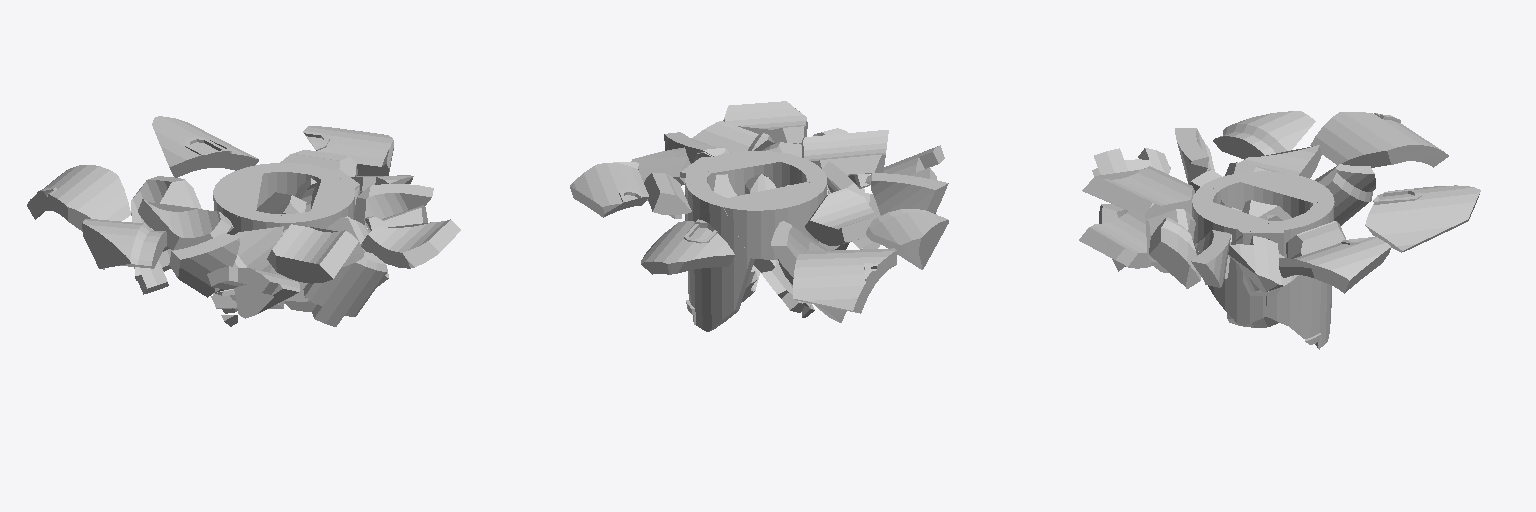
Rendered from destruction_tower_000072.obj.
3 views of the same model, side by side, from view 1: azimuth 30°, elevation 25°; view 2: azimuth 150°, elevation 25°; view 3: azimuth 270°, elevation 25° (orthographic).
Parts seen in each view (by area): view 1: tower.001_cell.003_Mesh.003, tower.001_cell.024_Mesh.024, tower.001_cell.025_Mesh.025, tower.001_cell.011_Mesh.011, tower.001_cell.005_Mesh.005, tower.001_cell.021_Mesh.021, tower.001_cell.009_Mesh.009, tower.001_cell.006_Mesh.006, tower.001_cell.012_Mesh.012, tower.001_cell.007_Mesh.007, tower.001_cell.002_Mesh.002, tower.001_cell.010_Mesh.010 (+10 smaller); view 2: tower.001_cell.017_Mesh.017, tower.001_cell.003_Mesh.003, tower.001_cell.015_Mesh.015, tower.001_cell.025_Mesh.025, tower.001_cell.005_Mesh.005, tower.001_cell.012_Mesh.012, tower.001_cell.024_Mesh.024, tower.001_cell.028_Mesh.028, tower.001_cell.009_Mesh.009, tower.001_cell.021_Mesh.021, tower.001_cell.002_Mesh.002, tower.001_cell.007_Mesh.007 (+8 smaller); view 3: tower.001_cell.025_Mesh.025, tower.001_cell.003_Mesh.003, tower.001_cell.024_Mesh.024, tower.001_cell.017_Mesh.017, tower.001_cell.012_Mesh.012, tower.001_cell.005_Mesh.005, tower.001_cell.015_Mesh.015, tower.001_cell.021_Mesh.021, tower.001_cell.020_Mesh.020, tower.001_cell.028_Mesh.028, tower.001_cell_Mesh, tower.001_cell.007_Mesh.007 (+10 smaller).
Part boxes in pixels (bbox=[...]): tower.001_cell.003_Mesh.003: bbox=[27, 165, 130, 231]; tower.001_cell.024_Mesh.024: bbox=[267, 224, 358, 283]; tower.001_cell.025_Mesh.025: bbox=[152, 116, 258, 177]; tower.001_cell.011_Mesh.011: bbox=[303, 251, 386, 326]; tower.001_cell.005_Mesh.005: bbox=[82, 219, 166, 269]; tower.001_cell.021_Mesh.021: bbox=[361, 219, 460, 268]; tower.001_cell.009_Mesh.009: bbox=[138, 199, 233, 250]; tower.001_cell.006_Mesh.006: bbox=[207, 266, 299, 318]; tower.001_cell.012_Mesh.012: bbox=[303, 126, 393, 175]; tower.001_cell.007_Mesh.007: bbox=[131, 176, 201, 294]; tower.001_cell.002_Mesh.002: bbox=[169, 233, 239, 297]; tower.001_cell.010_Mesh.010: bbox=[354, 184, 433, 227]; tower.001_cell.017_Mesh.017: bbox=[685, 176, 754, 331]; tower.001_cell.003_Mesh.003: bbox=[793, 248, 896, 313]; tower.001_cell.015_Mesh.015: bbox=[724, 182, 825, 259]; tower.001_cell.025_Mesh.025: bbox=[641, 219, 734, 274]; tower.001_cell.005_Mesh.005: bbox=[866, 209, 948, 269]; tower.001_cell.012_Mesh.012: bbox=[570, 162, 648, 217]; tower.001_cell.024_Mesh.024: bbox=[802, 130, 888, 175]; tower.001_cell.028_Mesh.028: bbox=[701, 151, 815, 195]; tower.001_cell.009_Mesh.009: bbox=[805, 188, 876, 245]; tower.001_cell.021_Mesh.021: bbox=[723, 101, 807, 144]; tower.001_cell.002_Mesh.002: bbox=[871, 173, 948, 215]; tower.001_cell.007_Mesh.007: bbox=[771, 221, 846, 322]; tower.001_cell.025_Mesh.025: bbox=[1365, 185, 1480, 252]; tower.001_cell.003_Mesh.003: bbox=[1310, 112, 1448, 167]; tower.001_cell.024_Mesh.024: bbox=[1082, 166, 1194, 218]; tower.001_cell.017_Mesh.017: bbox=[1289, 200, 1334, 349]; tower.001_cell.012_Mesh.012: bbox=[1279, 236, 1390, 293]; tower.001_cell.005_Mesh.005: bbox=[1213, 111, 1315, 159]; tower.001_cell.015_Mesh.015: bbox=[1241, 171, 1333, 217]; tower.001_cell.021_Mesh.021: bbox=[1079, 208, 1151, 268]; tower.001_cell.020_Mesh.020: bbox=[1208, 228, 1269, 325]; tower.001_cell.028_Mesh.028: bbox=[1192, 187, 1270, 254]; tower.001_cell_Mesh: bbox=[1149, 218, 1200, 288]; tower.001_cell.007_Mesh.007: bbox=[1315, 164, 1375, 225].
Size of the model in its own units: 113 by 44.73 by 121.